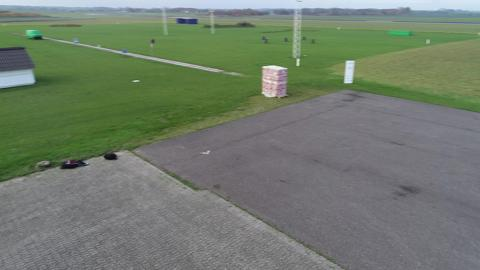RockwoolPallet: (261, 64, 289, 98)
